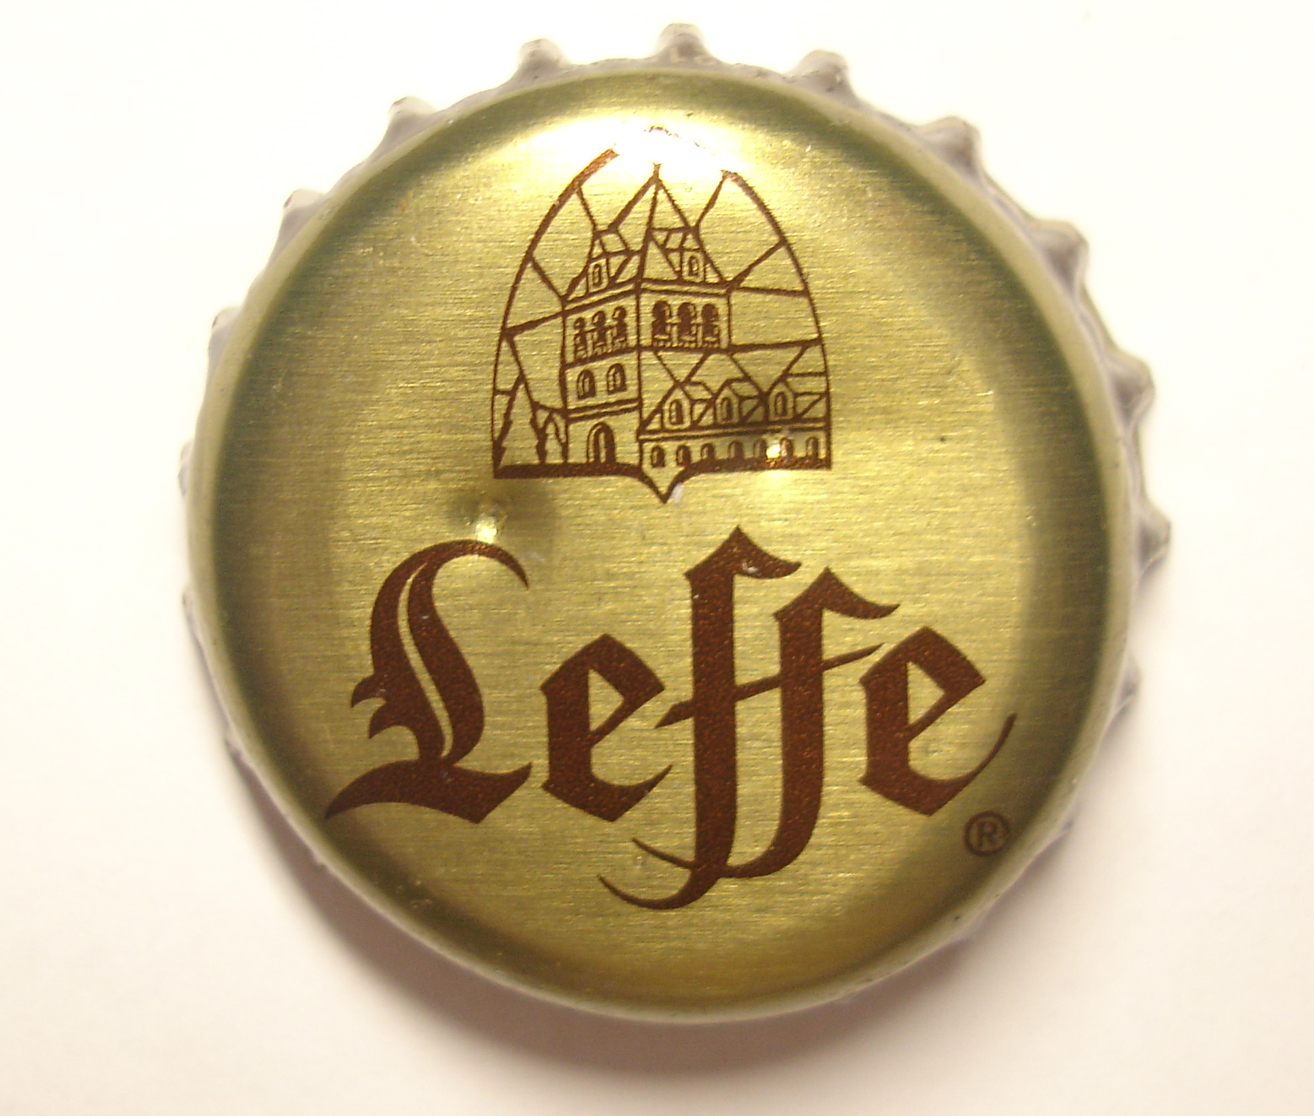leffe: (169, 15, 1190, 1057)
